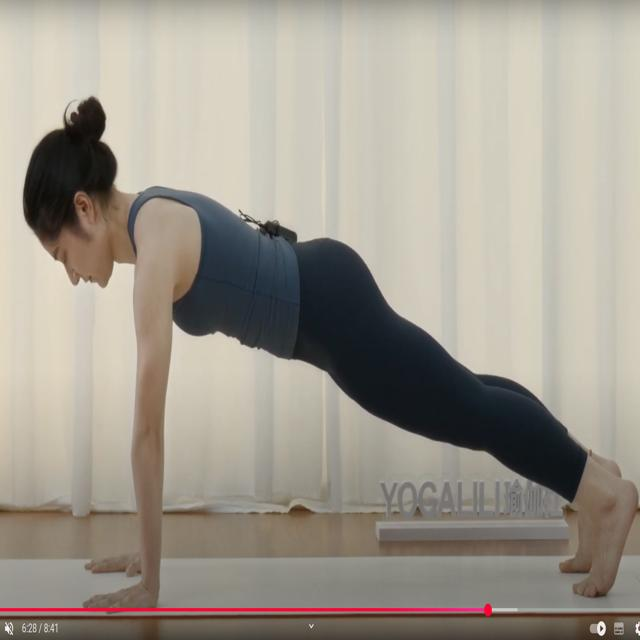Plank_Pose: (16, 101, 640, 616)
